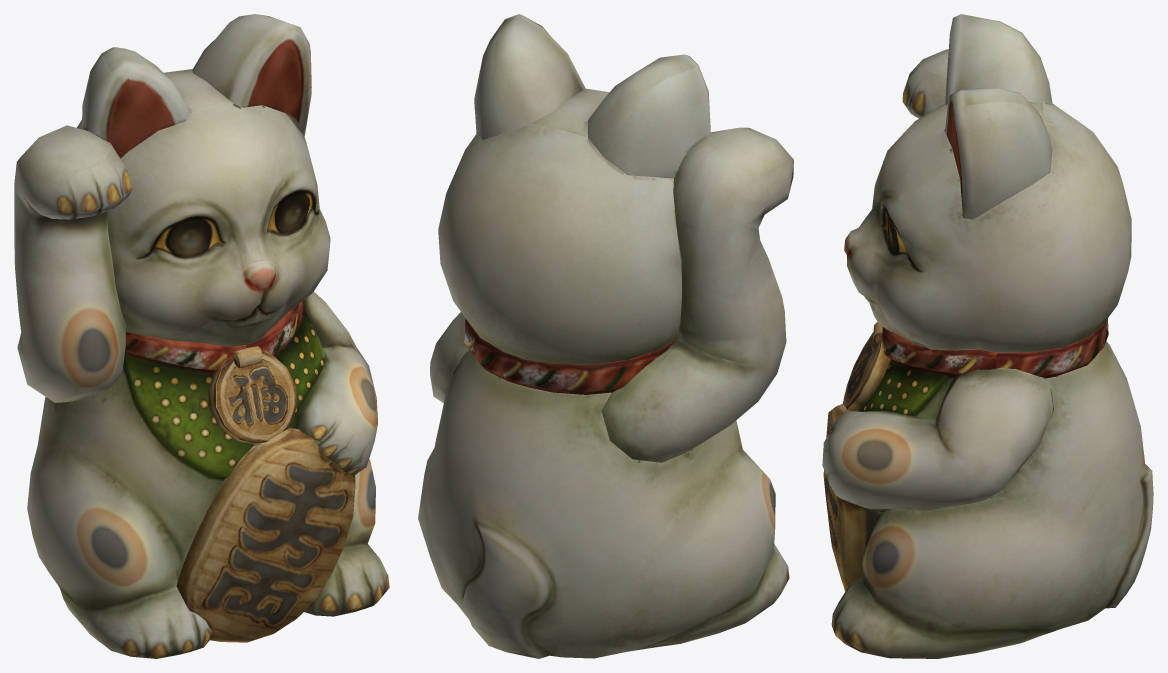
Rendered from tqfb_mao01.FBX.
3 views of the same model, side by side, from view 1: azimuth 30°, elevation 25°; view 2: azimuth 150°, elevation 25°; view 3: azimuth 270°, elevation 25° (orthographic). The views are drawn at different scales.
Visible parts, largest first — view 1: tqfb_mao01; view 2: tqfb_mao01; view 3: tqfb_mao01.
Part boxes in pixels (bbox=[...]): tqfb_mao01: bbox=[14, 14, 389, 658]; tqfb_mao01: bbox=[418, 14, 793, 658]; tqfb_mao01: bbox=[822, 14, 1153, 658].
Bounding box in the file's own units: 5.01 × 8.05 × 4.38.
